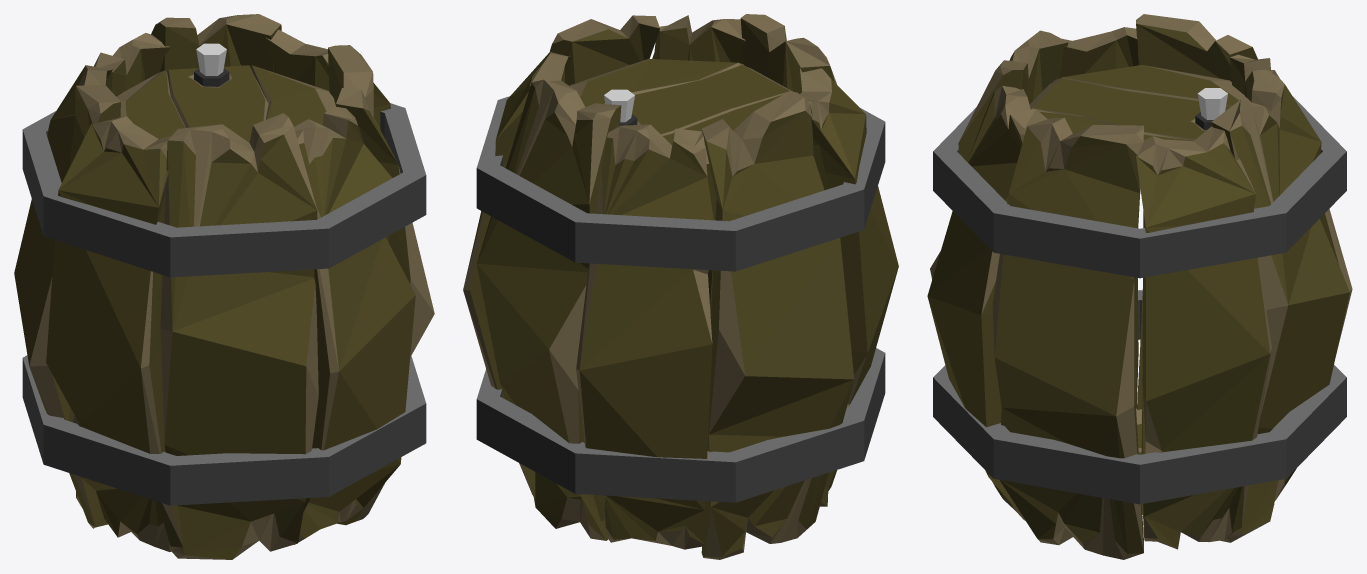
Rendered from Lagerfass_03.FBX.
3 renders of one model, left to right at view 1: azimuth 30°, elevation 25°; view 2: azimuth 150°, elevation 25°; view 3: azimuth 270°, elevation 25°, orthographic. The views are drawn at different scales.
Visible parts, largest first — view 1: Lagerfass_03; view 2: Lagerfass_03; view 3: Lagerfass_03.
Boxes of the visible parts, <box> form: Lagerfass_03: <box>14,14,434,559</box>; Lagerfass_03: <box>463,14,898,559</box>; Lagerfass_03: <box>927,14,1352,559</box>.
Bounding box in the file's own units: 1.54 × 1.75 × 1.56.
